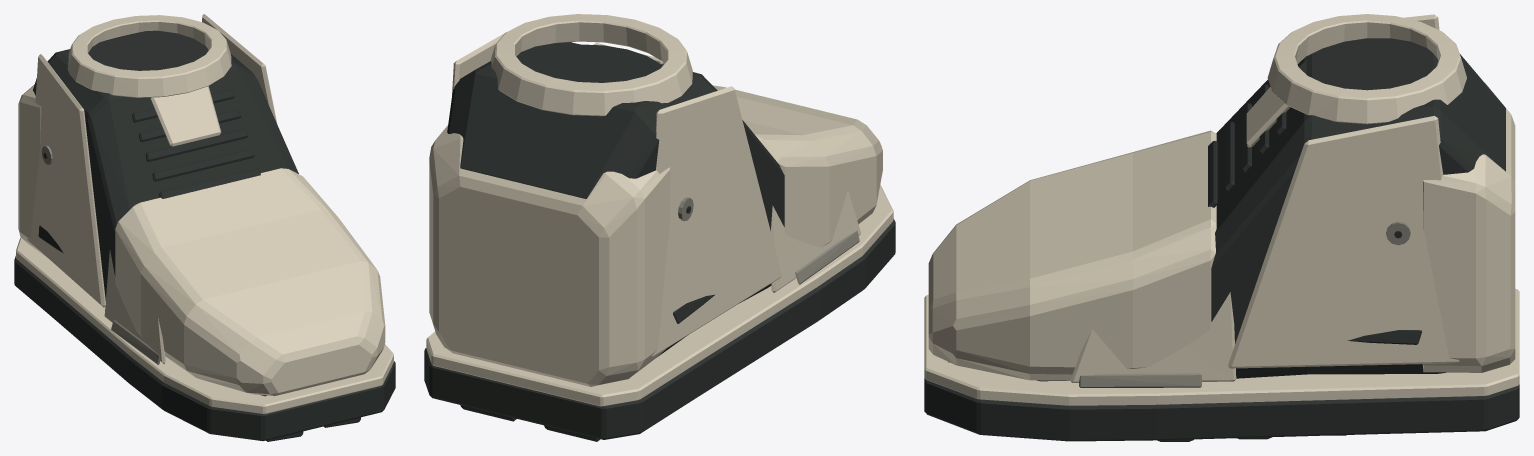
The model's file is field-boot.glb.
The picture shows the model from 3 angles, left to right: view 1: azimuth 30°, elevation 25°; view 2: azimuth 150°, elevation 25°; view 3: azimuth 270°, elevation 25°; orthographic projection. The views are drawn at different scales.
Visible parts, largest first — view 1: field_boot; view 2: field_boot; view 3: field_boot.
Part boxes in pixels (x1,y1,x2,y2): field_boot: [14, 14, 395, 441]; field_boot: [424, 14, 895, 441]; field_boot: [924, 14, 1519, 441].
Bounding box in the file's own units: 0.6241 × 0.7559 × 1.21.
